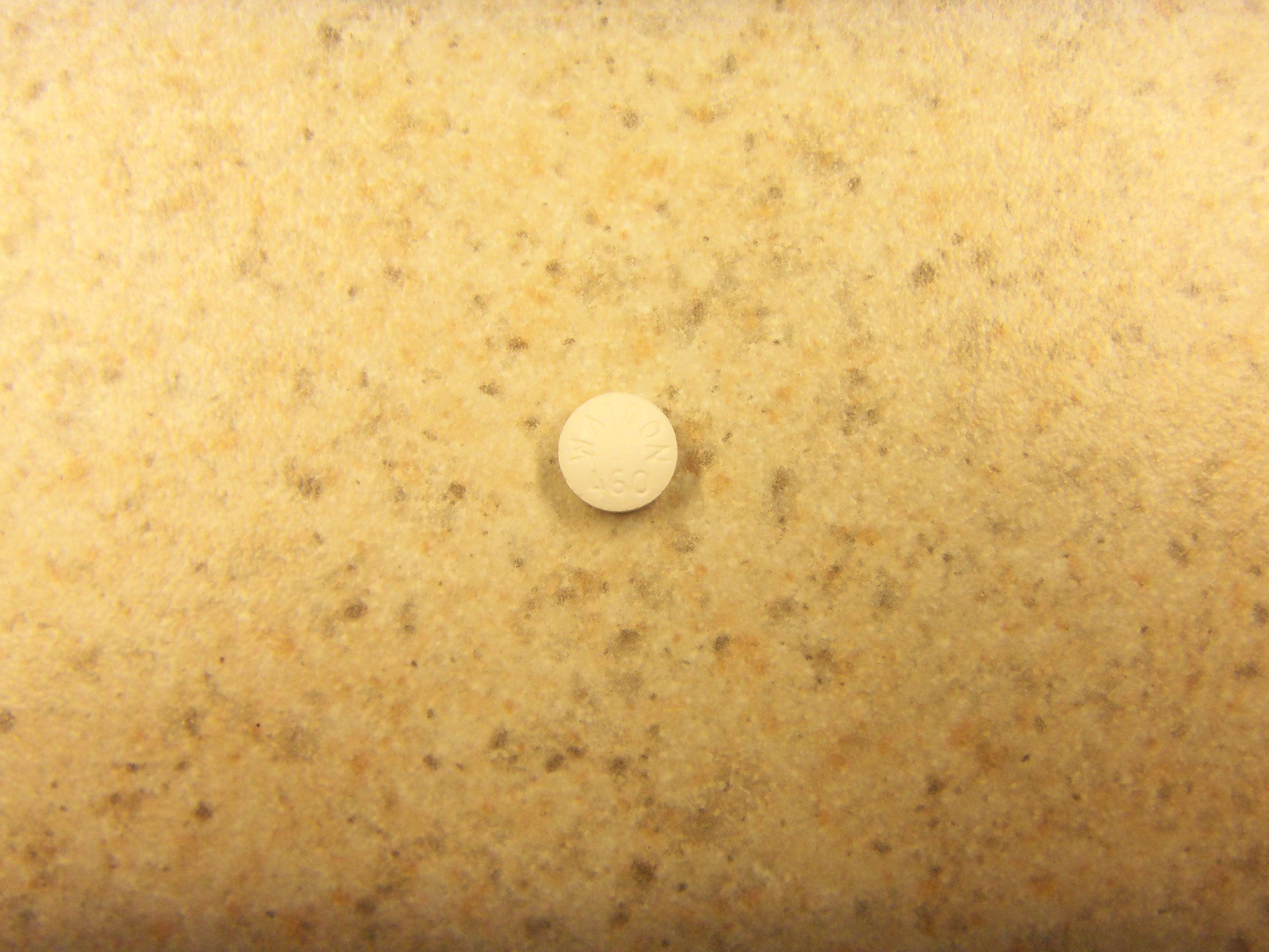Pill: (549, 383, 687, 518)
